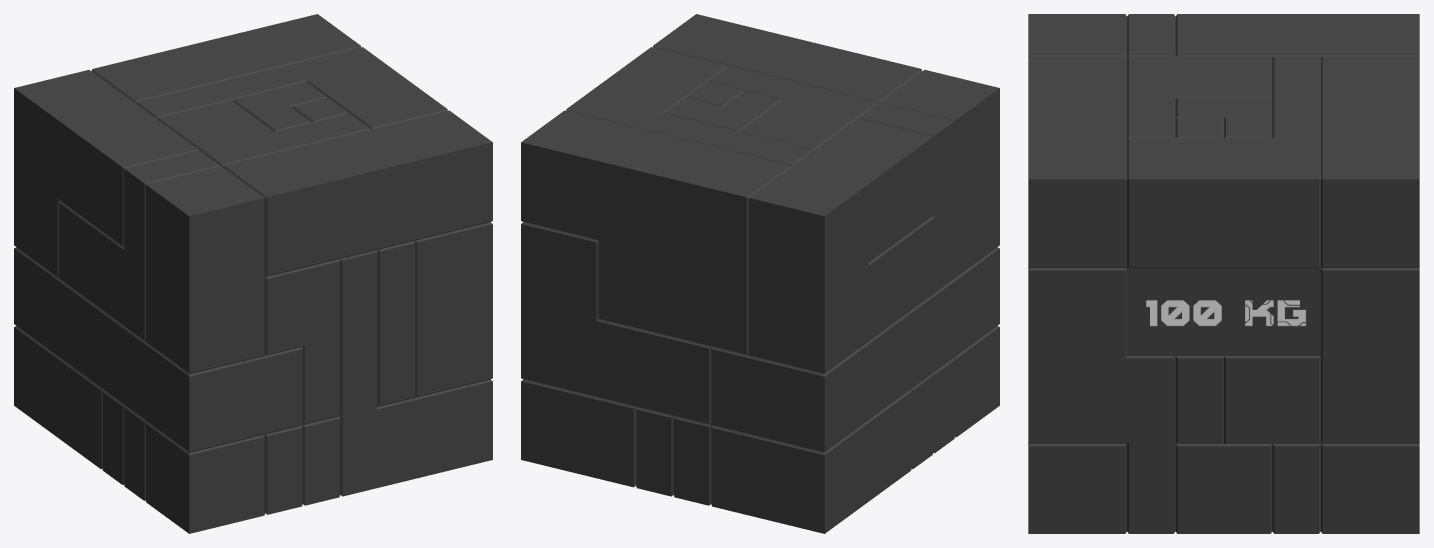
The model's file is crate5.glb.
3 views of the same model, side by side, from view 1: azimuth 30°, elevation 25°; view 2: azimuth 150°, elevation 25°; view 3: azimuth 270°, elevation 25° (orthographic). The views are drawn at different scales.
Visible parts, largest first — view 1: Crate5; view 2: Crate5; view 3: Crate5.
Part boxes in pixels (left/top/right/bottom): Crate5: left=14, top=14, right=492, bottom=533; Crate5: left=521, top=14, right=999, bottom=533; Crate5: left=1028, top=14, right=1419, bottom=533.
Size of the model in its own units: 2.02 by 2.02 by 2.02.
Materials: 2 (1 with a texture image).
